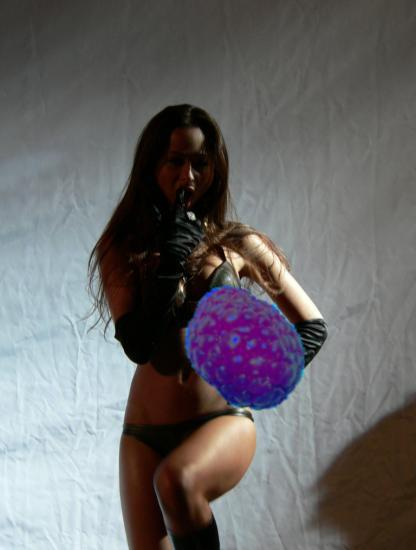Raspberry: (178, 280, 313, 415)
